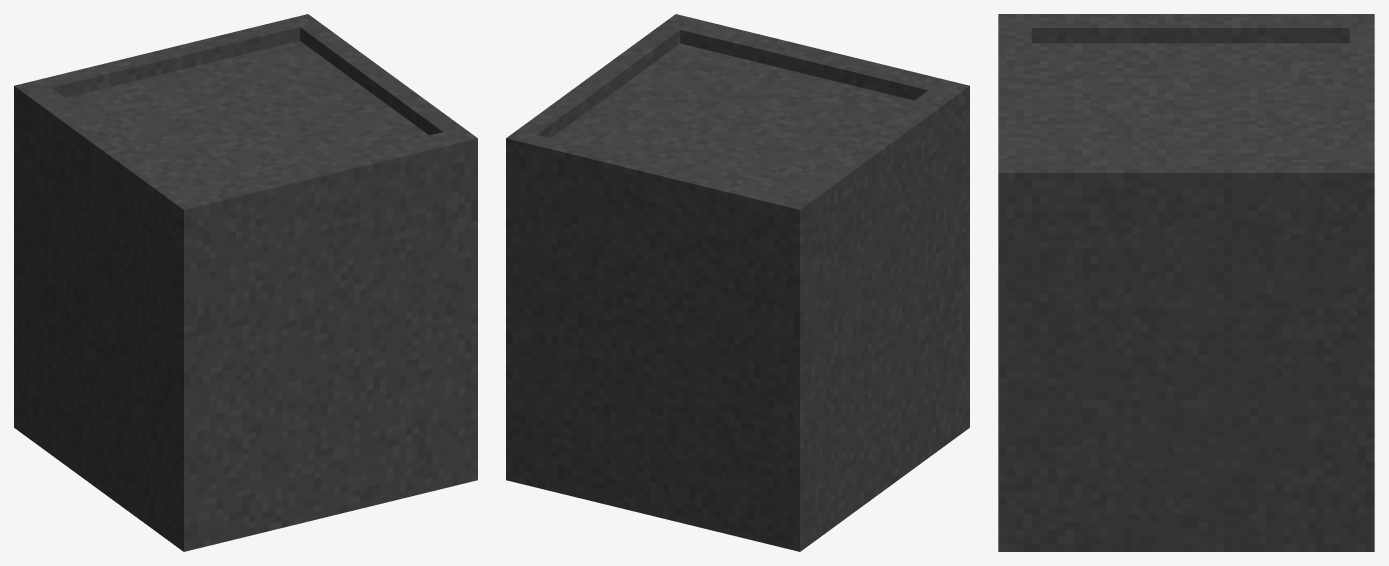
File: Castle_Fort.obj
The picture shows the model from 3 angles, left to right: view 1: azimuth 30°, elevation 25°; view 2: azimuth 150°, elevation 25°; view 3: azimuth 270°, elevation 25°; orthographic projection. The views are drawn at different scales.
Size of the model in its own units: 4.5 by 5 by 4.5.
1 material, 1 textured.
